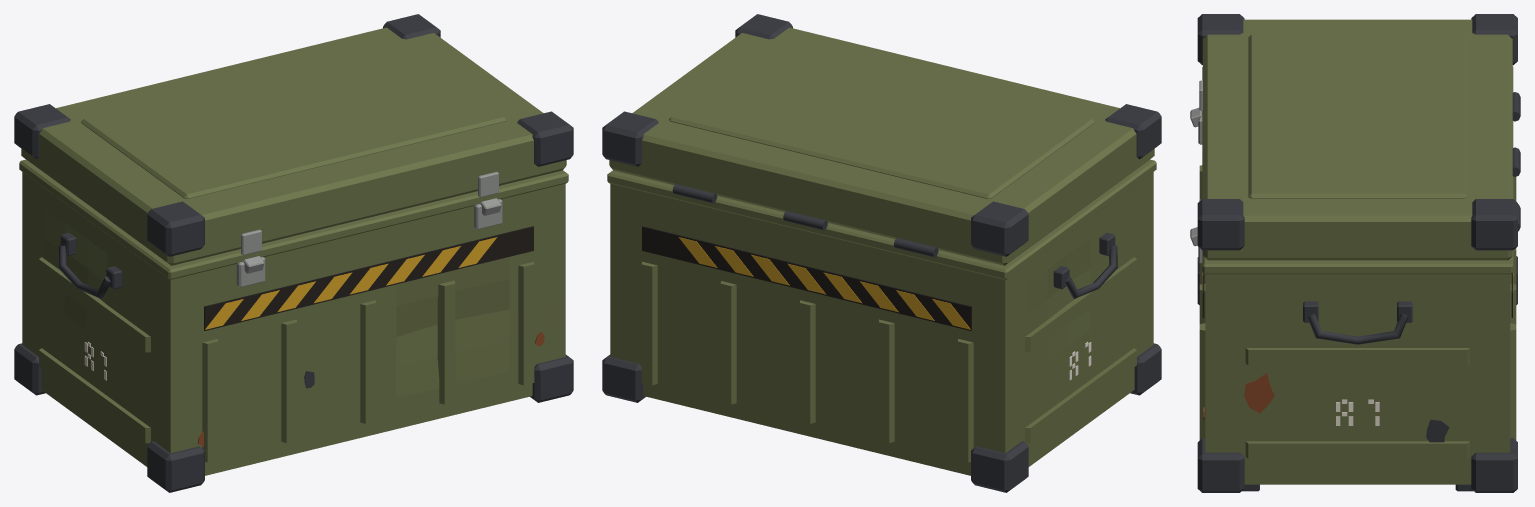
Rendered from deco_crate_metal.fbx.
3 views of the same model, side by side, from view 1: azimuth 30°, elevation 25°; view 2: azimuth 150°, elevation 25°; view 3: azimuth 270°, elevation 25° (orthographic). The views are drawn at different scales.
Visible parts, largest first — view 1: Crate_Metal_Body, Crate_Metal_Lid; view 2: Crate_Metal_Body, Crate_Metal_Lid; view 3: Crate_Metal_Lid, Crate_Metal_Body, Crate_Metal_Wear.
Part boxes in pixels (x1=…): Crate_Metal_Body: x1=14, y1=159, x2=573, y2=492; Crate_Metal_Lid: x1=14, y1=14, x2=573, y2=265; Crate_Metal_Body: x1=602, y1=159, x2=1161, y2=492; Crate_Metal_Lid: x1=602, y1=14, x2=1161, y2=265; Crate_Metal_Lid: x1=1197, y1=14, x2=1520, y2=260; Crate_Metal_Body: x1=1190, y1=66, x2=1517, y2=492; Crate_Metal_Wear: x1=1203, y1=373, x2=1449, y2=442.
Size of the model in its own units: 132 by 81.1 by 84.42.
